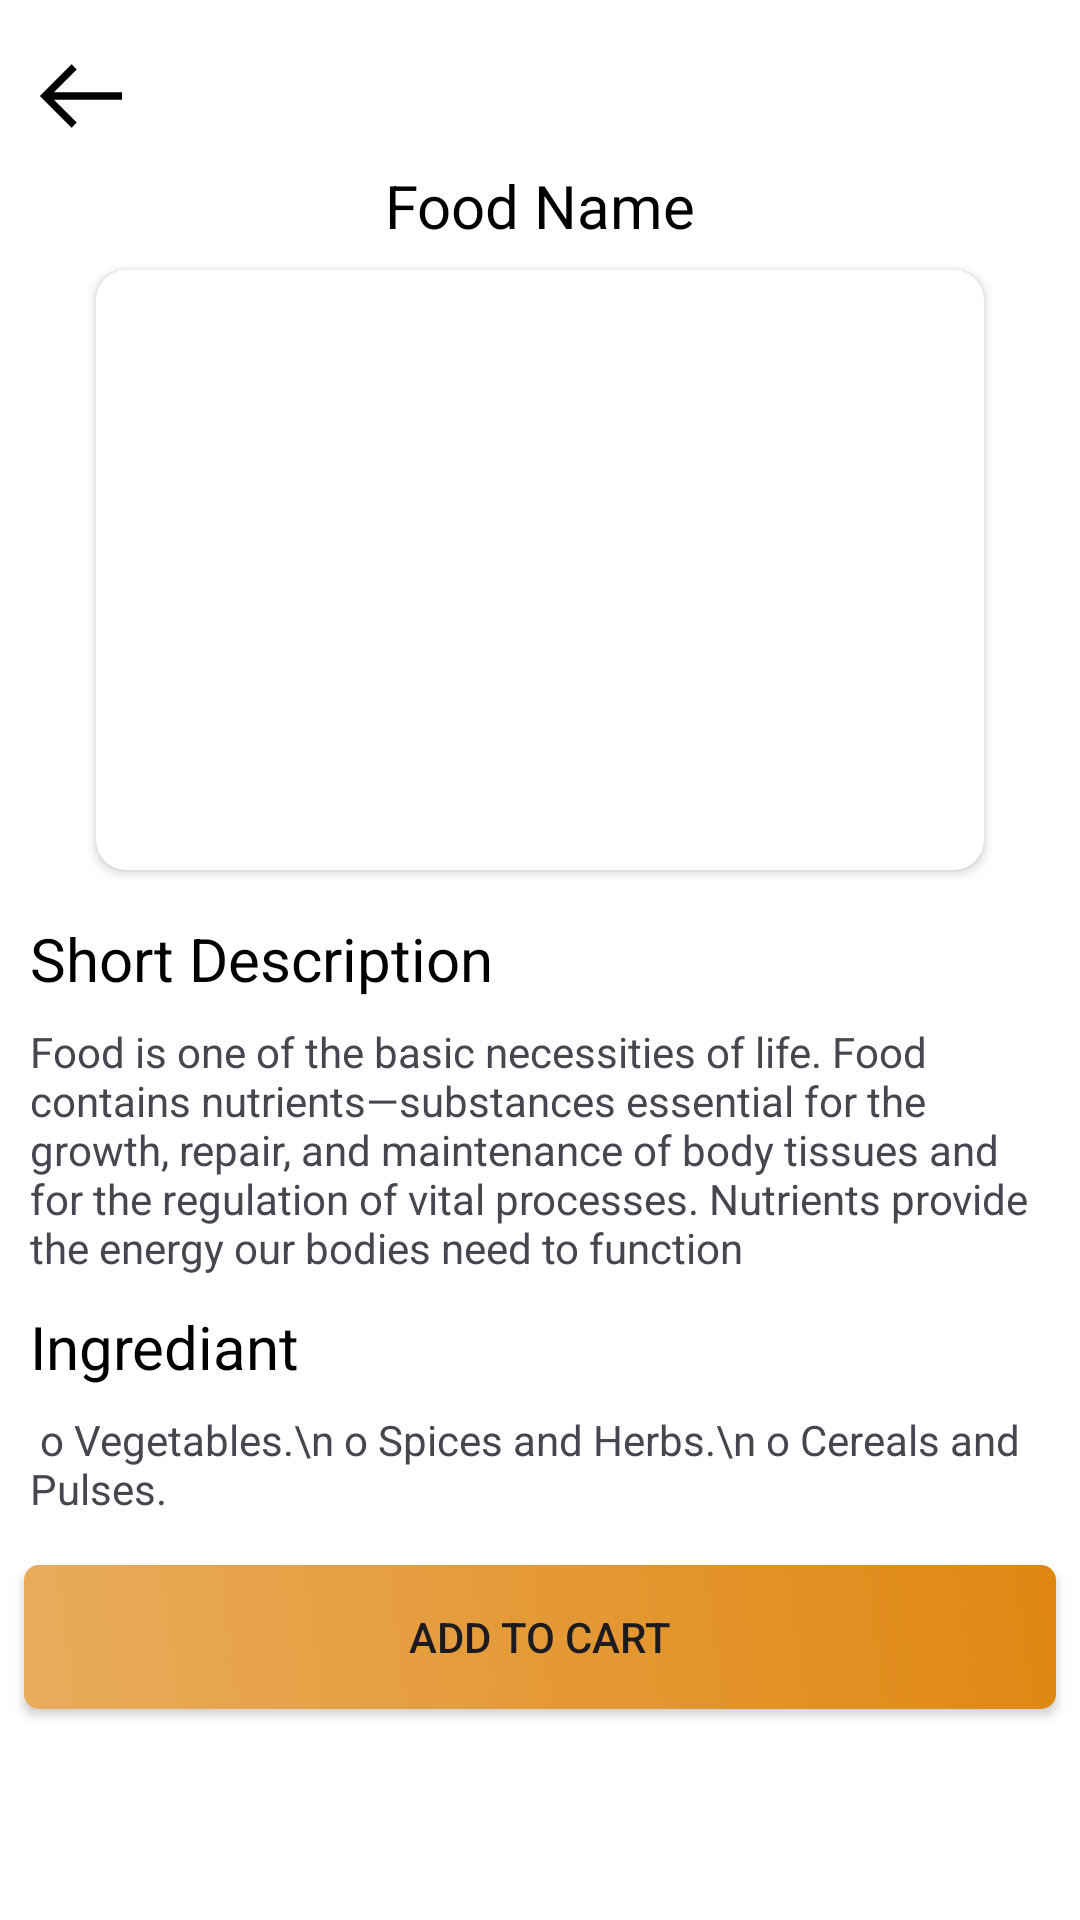

Locate icon controls on the screen. Image size 1080 × 1920, boxes as [x1=x1, y1=y1, x2=x2, y2=y2].
left arrow: [x1=40, y1=64, x2=122, y2=128]
